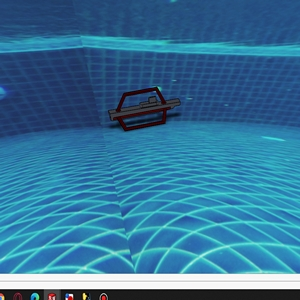submarine: (110, 84, 181, 133)
